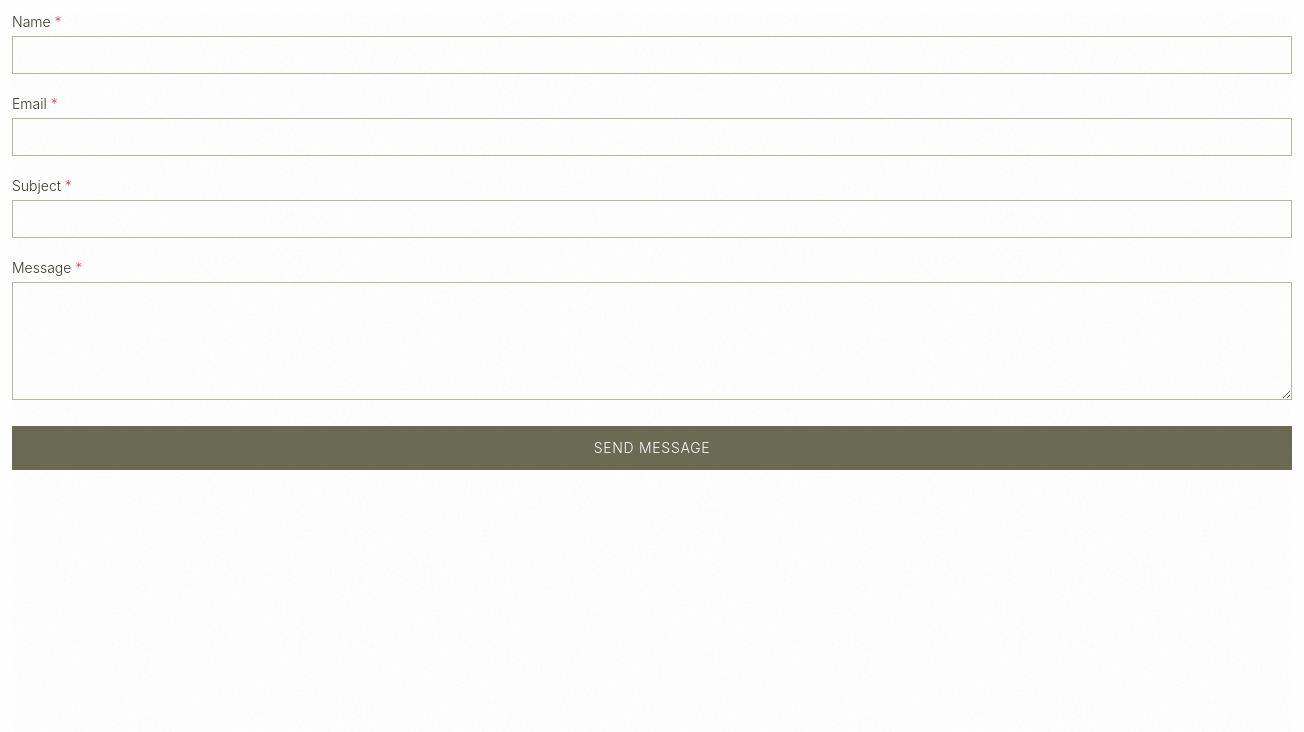
Test: ContactForm – unit tests › shows inline errors for all missing required fields
The width and height of the screenshot is (1304, 732).
Click the button "Send Message" at point(652, 448), box [12,426,1292,470]
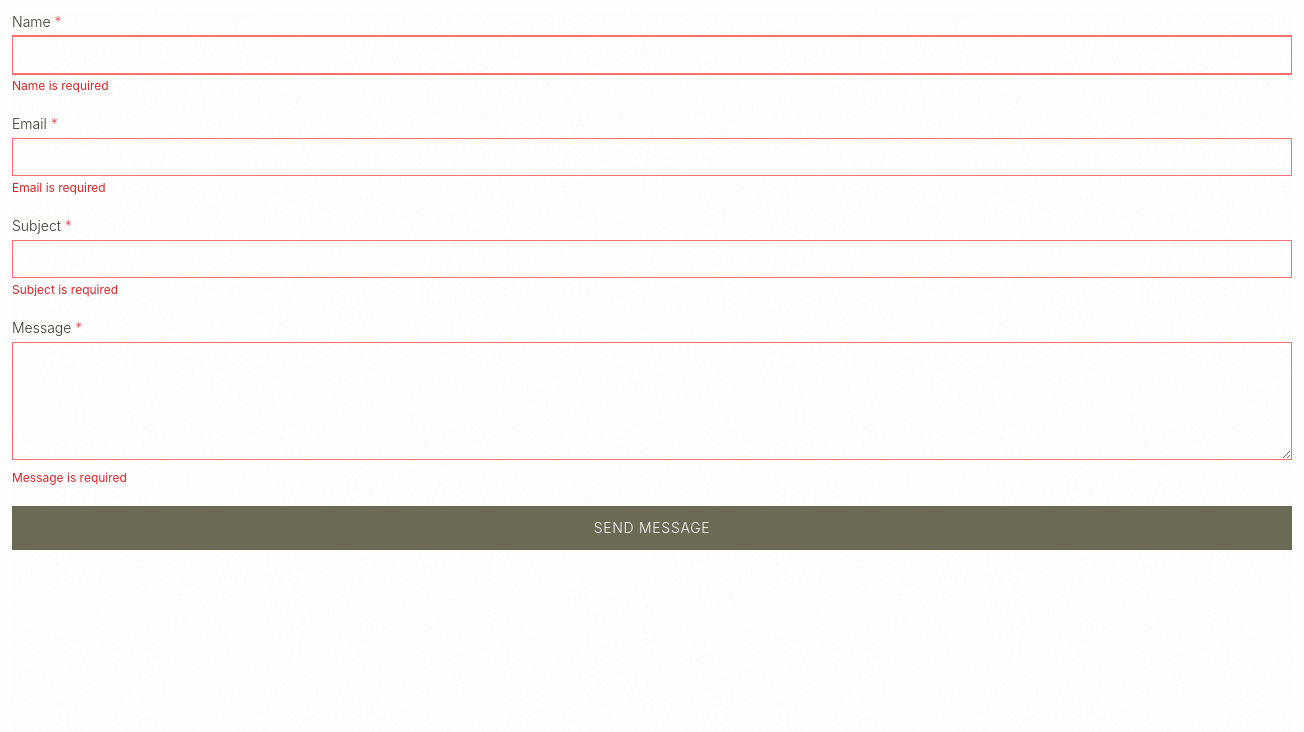
Expected: the message "Name is required" is shown, [12,78,109,93]
Expected: the message "Email is required" is shown, [12,180,106,195]
Expected: the message "Subject is required" is shown, [12,282,118,297]
